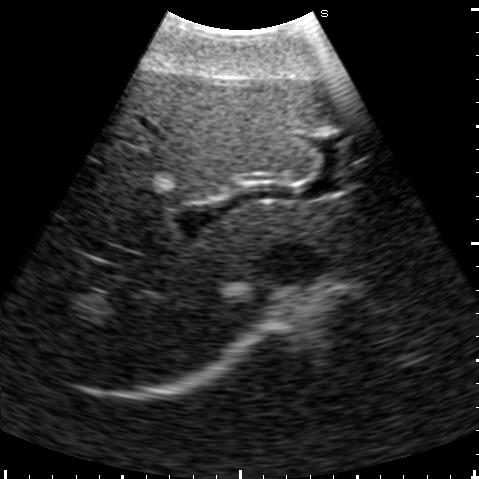IVC: (262, 244, 322, 282)
S4: (89, 76, 344, 199)
Tumor: (77, 296, 107, 319), (226, 283, 250, 300), (152, 176, 173, 192)
